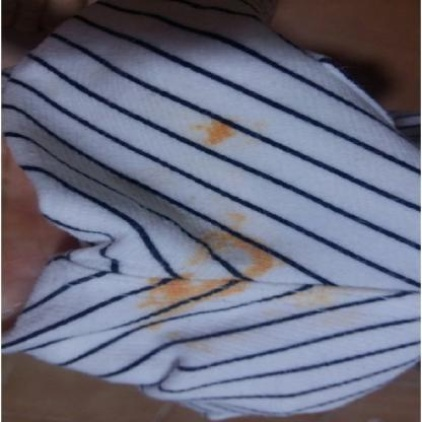kimchi: (144, 275, 241, 319), (295, 279, 348, 311), (196, 234, 241, 268), (197, 116, 237, 150), (243, 252, 282, 282), (185, 336, 223, 356), (231, 214, 252, 231), (151, 319, 165, 336)
